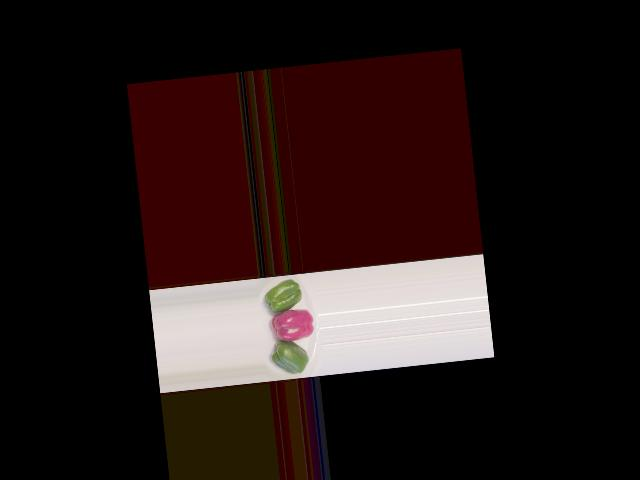bell_pepper: (266, 337, 314, 378)
